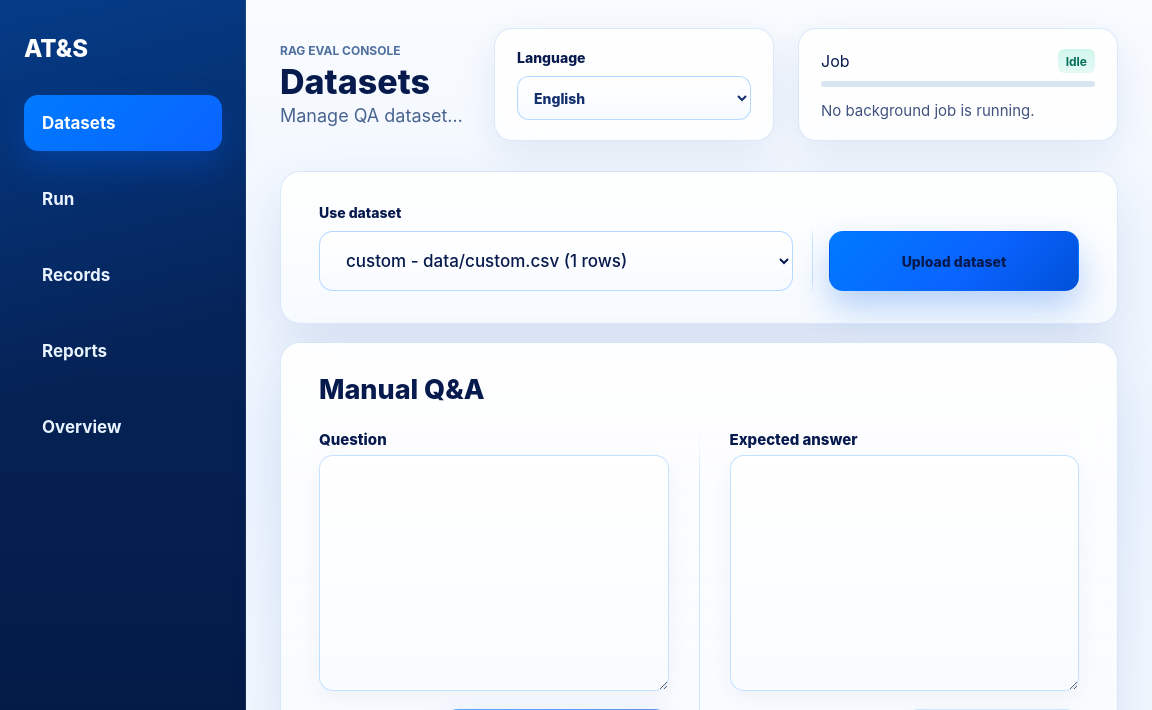
Test: App › uses unified surface panels for the simplified console layout
Click the button "Run": click(123, 199) [24, 171, 222, 227]
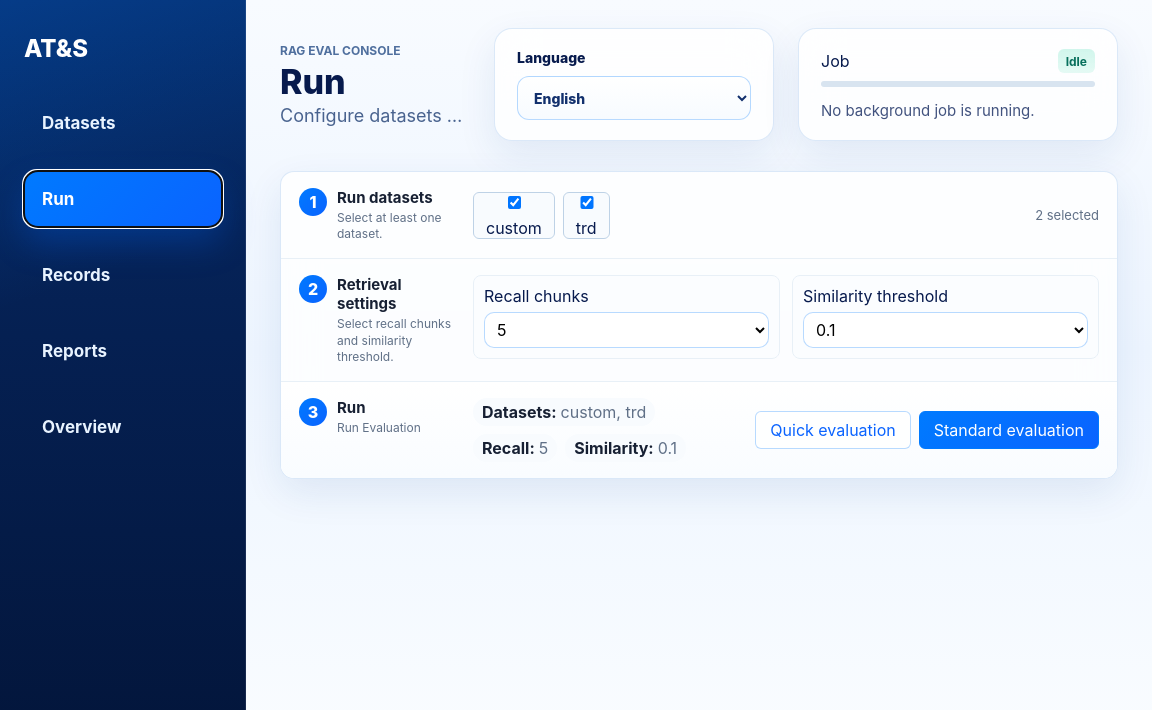
Result: the checkbox labelled "custom" is shown at [490, 196, 539, 209]
Result: the number of elements with class "run-flow-step" is 3 at [281, 172, 1117, 258]; [281, 258, 1117, 381]; [281, 381, 1117, 478]
Click the button "Reports": click(123, 351) [24, 323, 222, 379]
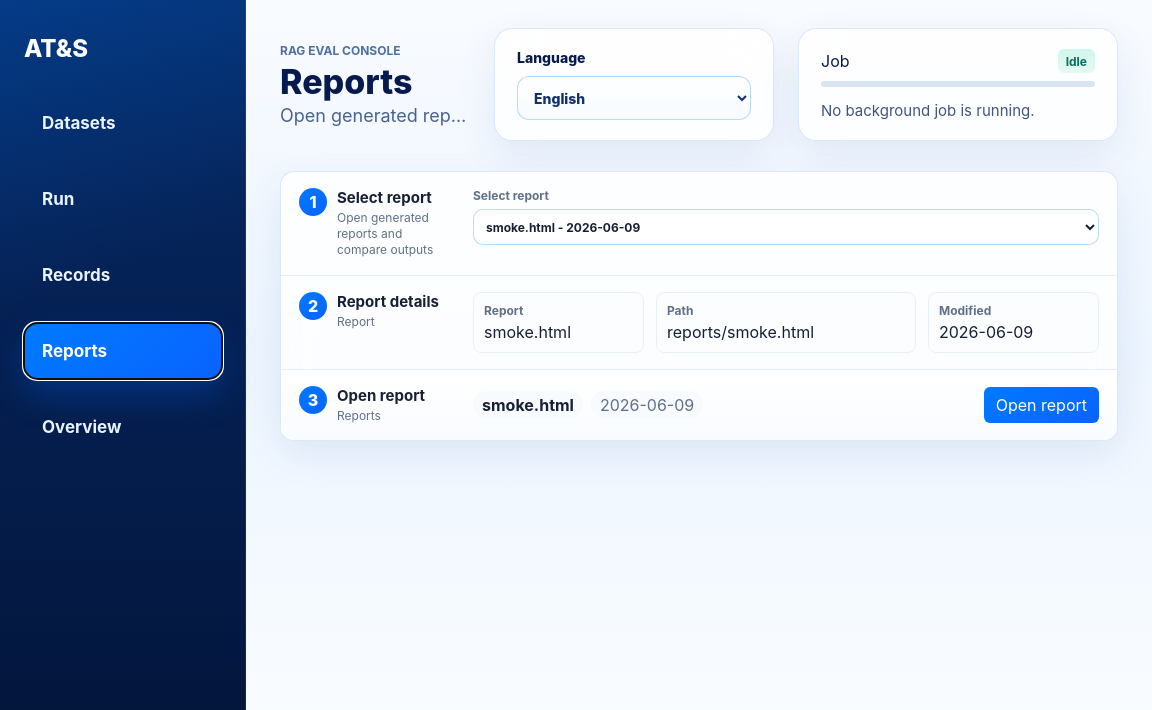
Result: the text "smoke.html" next to "reports/smoke.html" is shown at [484, 322, 571, 342]
Result: the element with class "report-details-step" is shown at [281, 275, 1117, 369]
